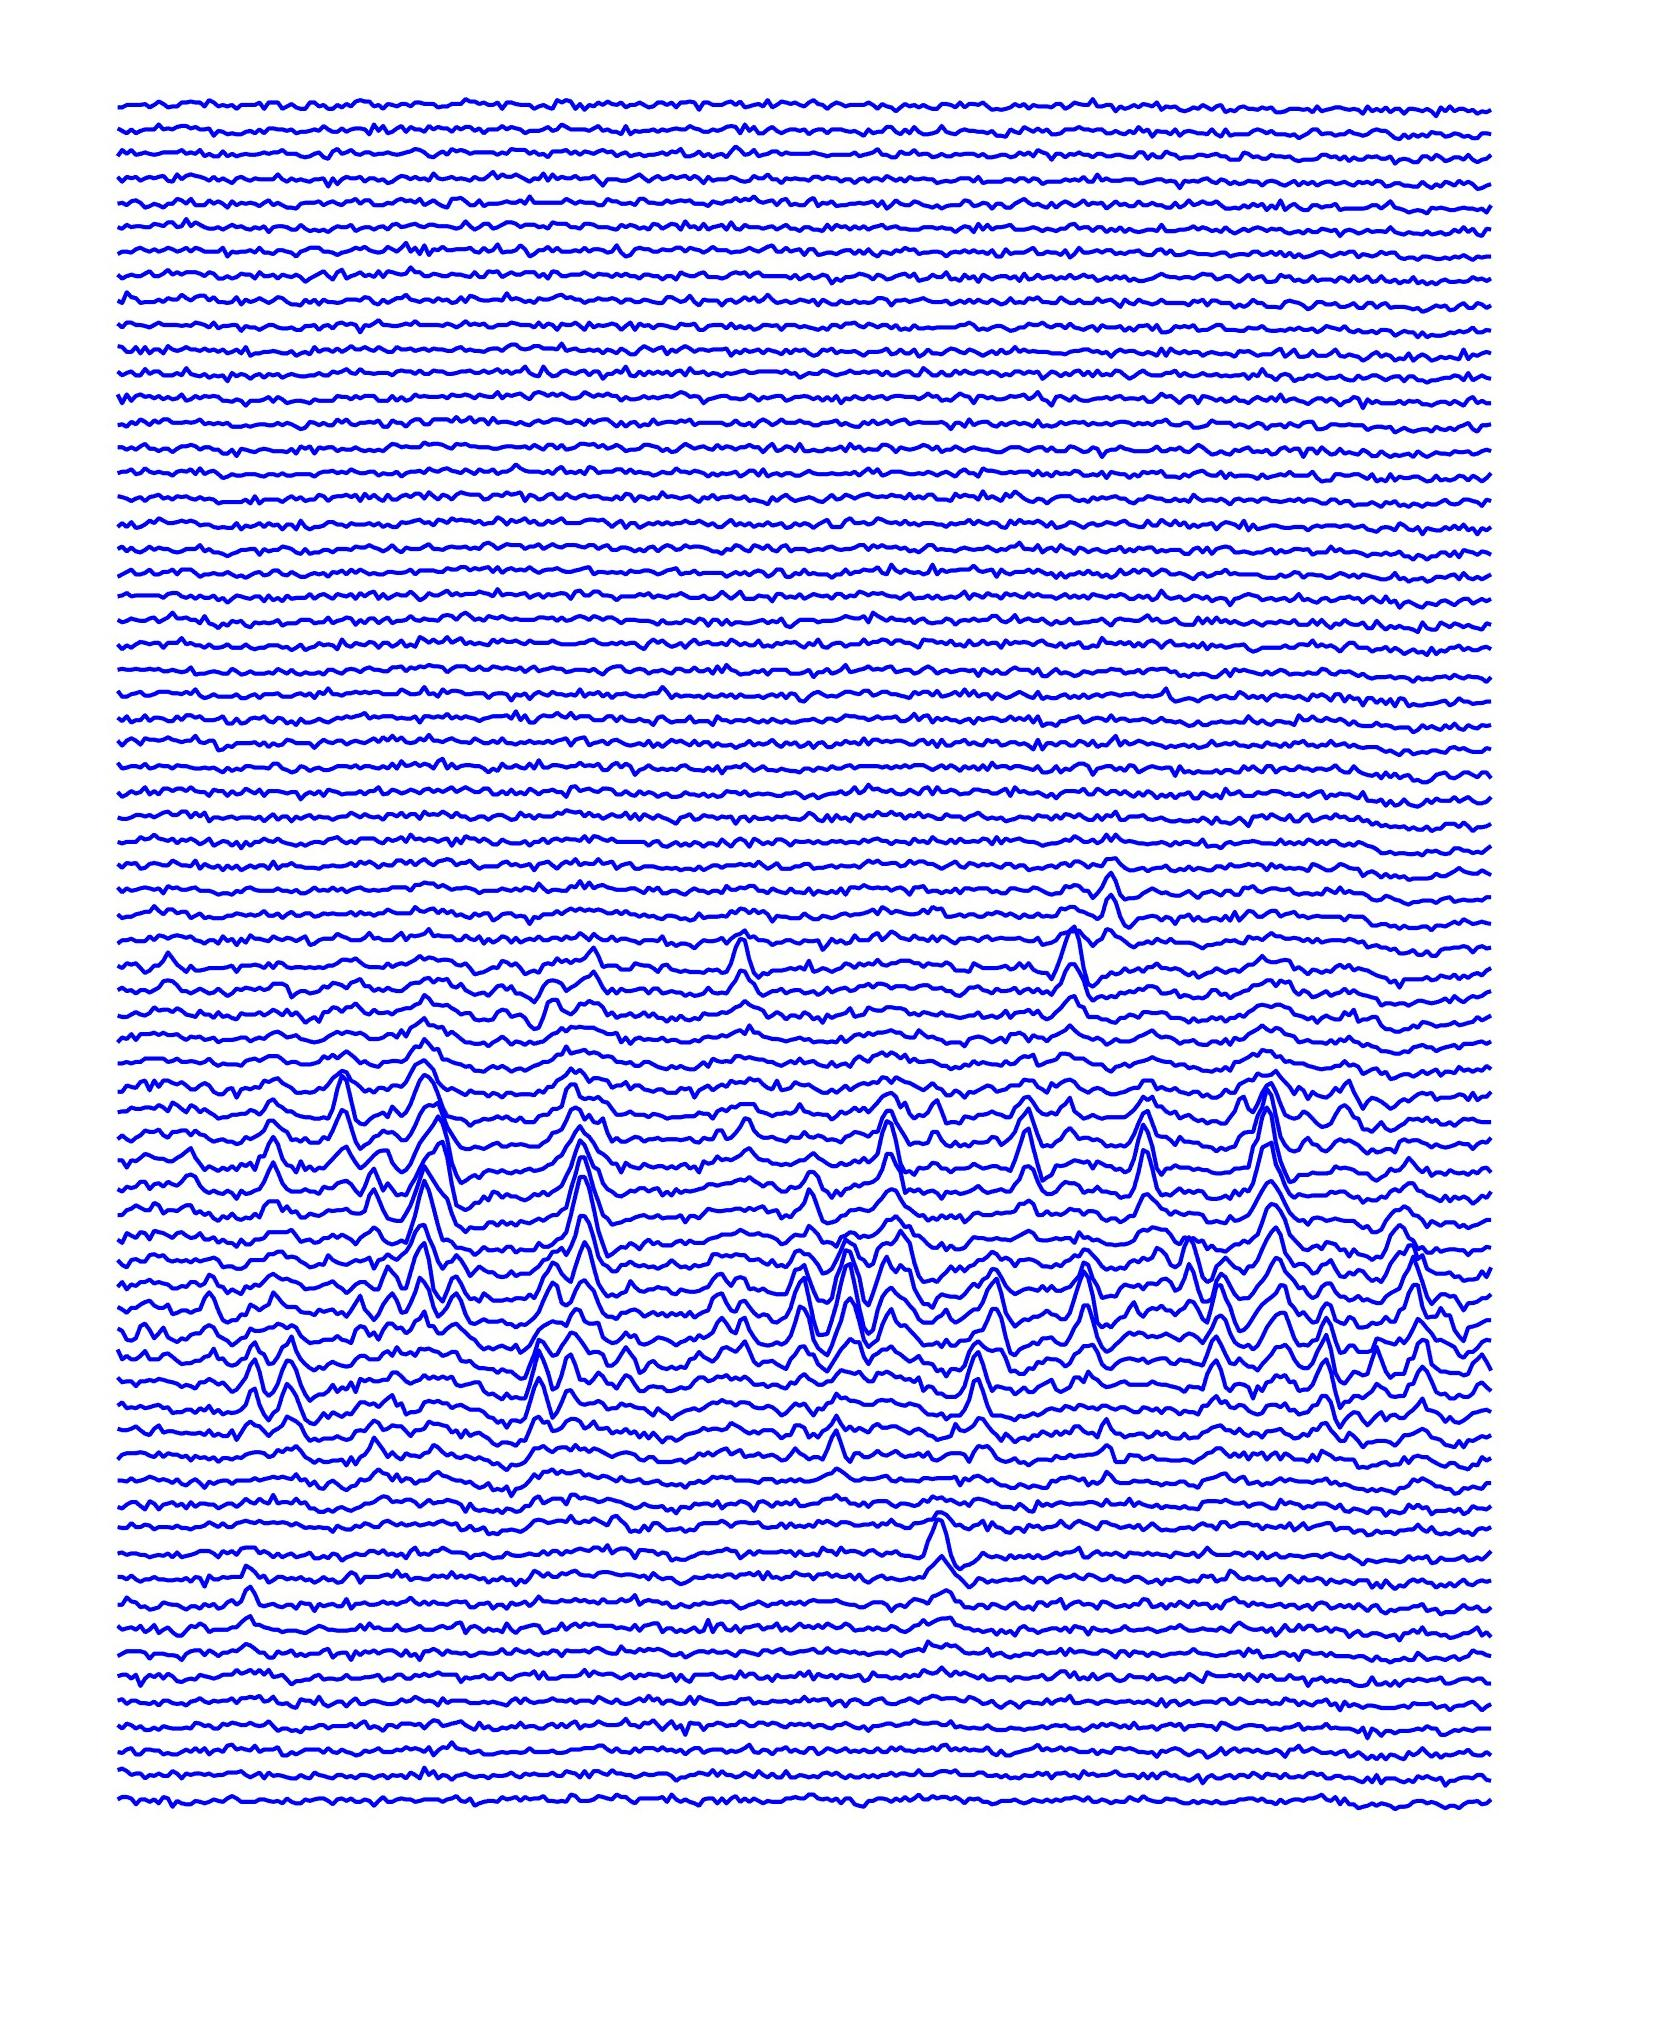defect: (1234, 1066, 1308, 1385), (396, 1044, 465, 1336), (866, 1091, 936, 1358), (1376, 1211, 1463, 1423), (216, 1316, 318, 1477), (546, 1083, 606, 1322), (1096, 1102, 1201, 1235), (515, 931, 620, 1034), (236, 1066, 295, 1240), (913, 1486, 1005, 1590), (1187, 1246, 1239, 1432), (1002, 1083, 1068, 1204), (1307, 1277, 1344, 1477), (778, 1218, 828, 1361), (707, 1255, 768, 1373), (514, 1324, 571, 1444), (832, 1209, 874, 1359), (1057, 1248, 1110, 1368), (1044, 906, 1096, 1016), (315, 1046, 359, 1174), (709, 931, 778, 1006), (807, 1390, 859, 1487), (948, 1344, 1000, 1440), (977, 1265, 1027, 1354), (1100, 844, 1132, 942)
